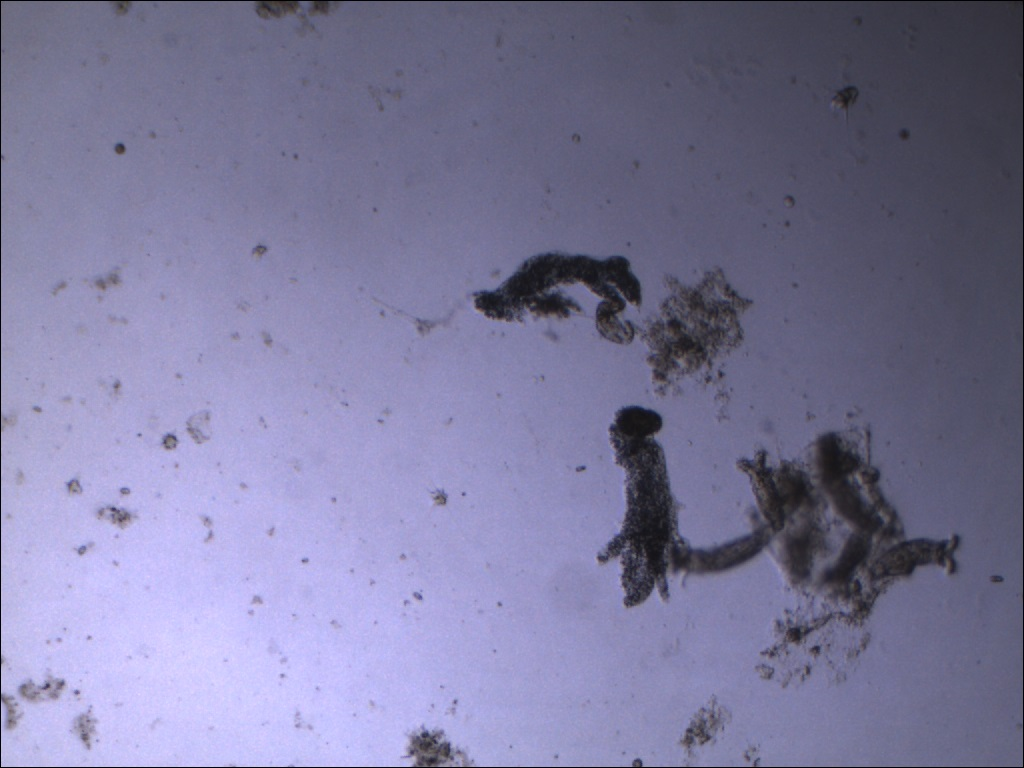amoeba: (592, 401, 690, 615), (467, 246, 643, 349)
